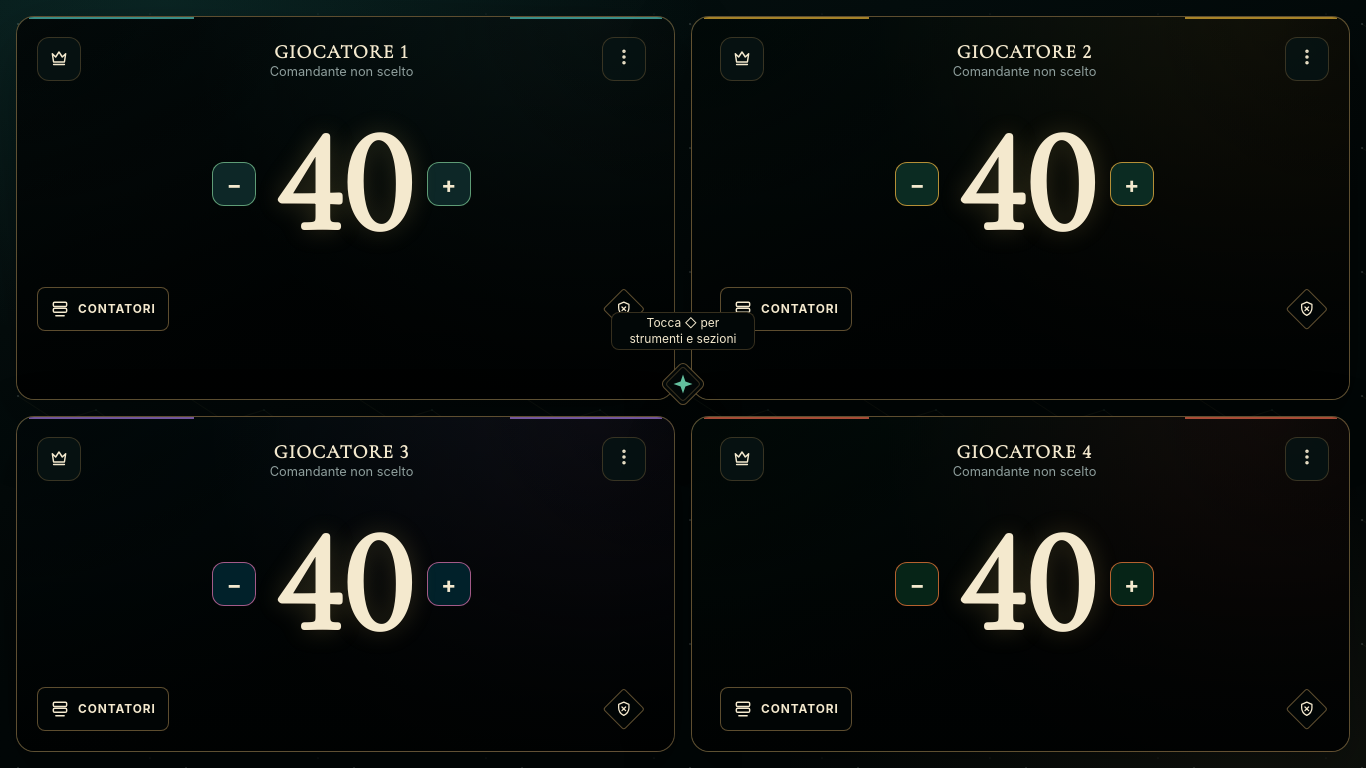
it: scoring › applies Commander damage to life as one step
This screenshot has width=1366, height=768.
Click the button named "danni commander di" at (624, 309), box [602,287,646,331]
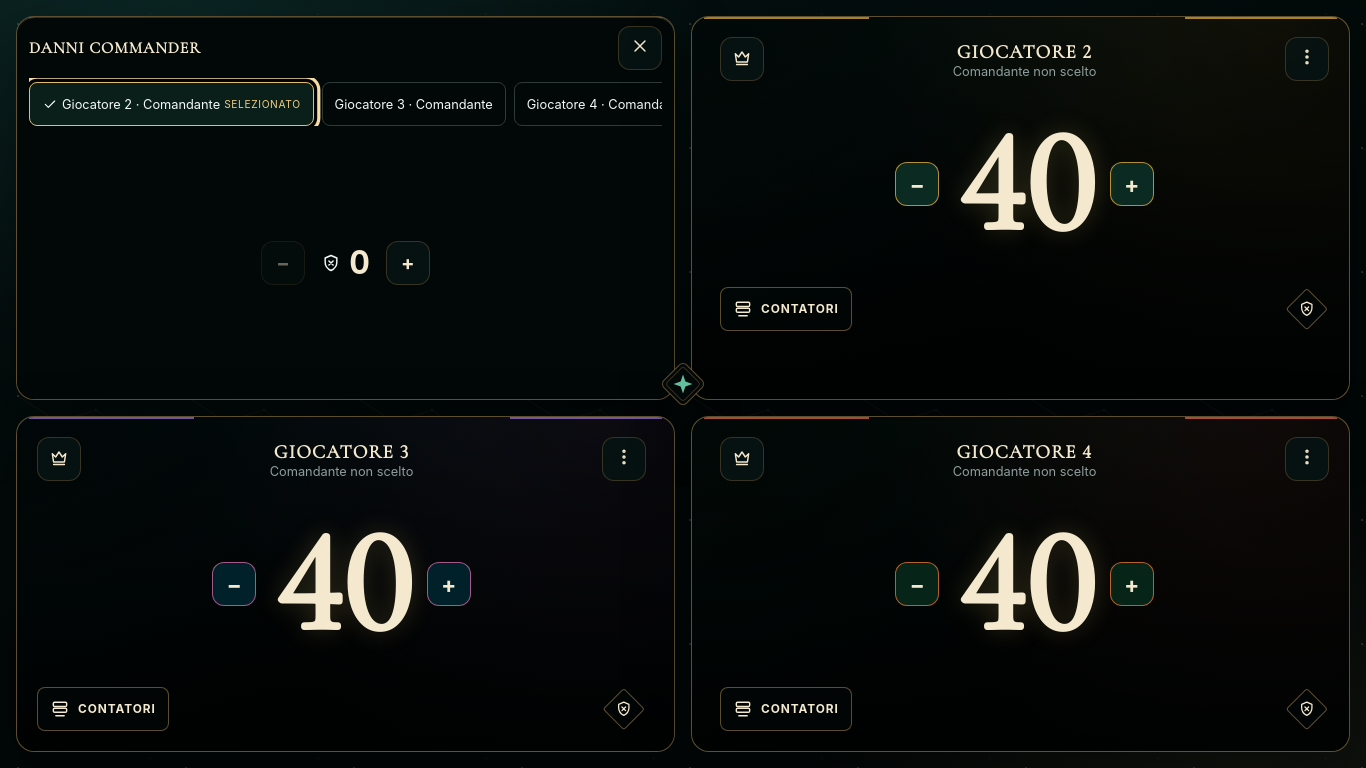
Click the button named "aggiungi 1 danno commander da giocatore 2 a giocatore 1" at (408, 262), box [386,240,430,284]
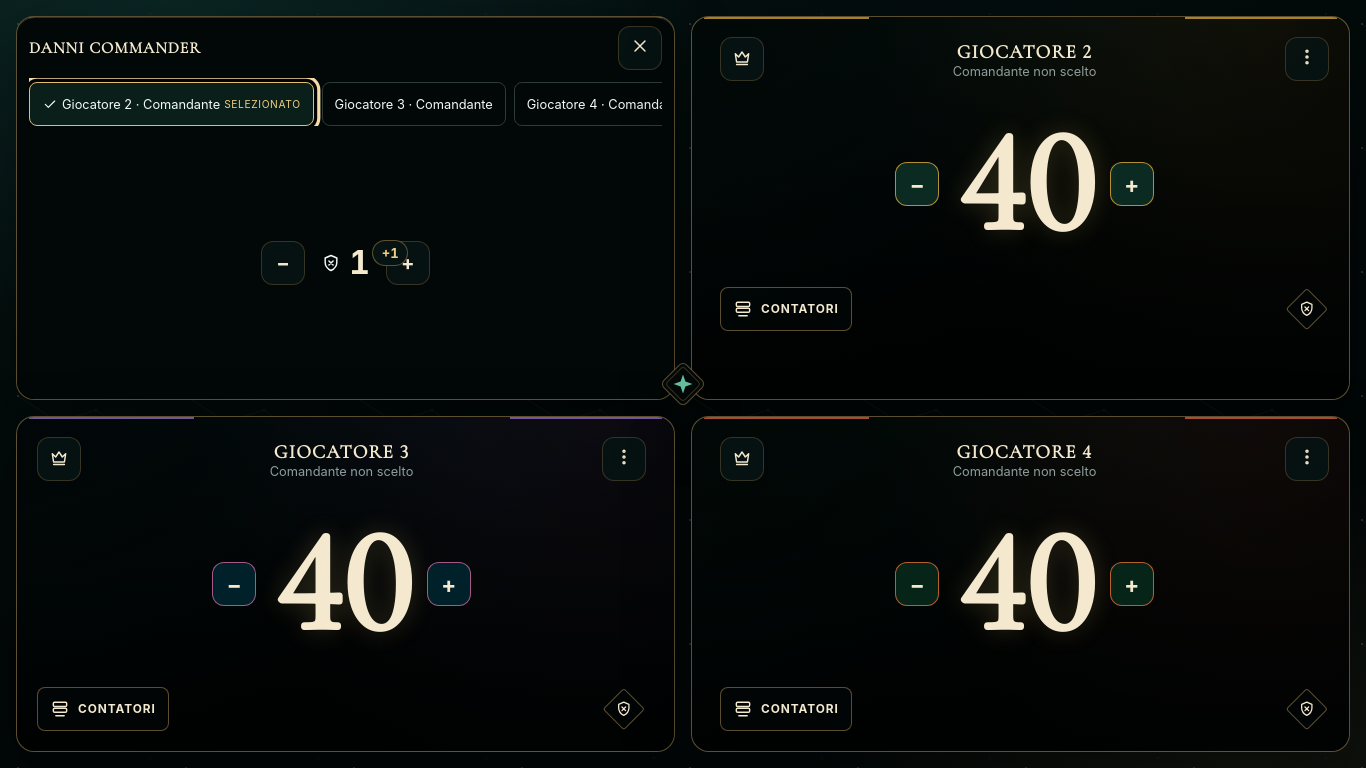
Click the button named "aggiungi 1 danno commander da giocatore 2 a giocatore 1" at (408, 262), box [386,240,430,284]
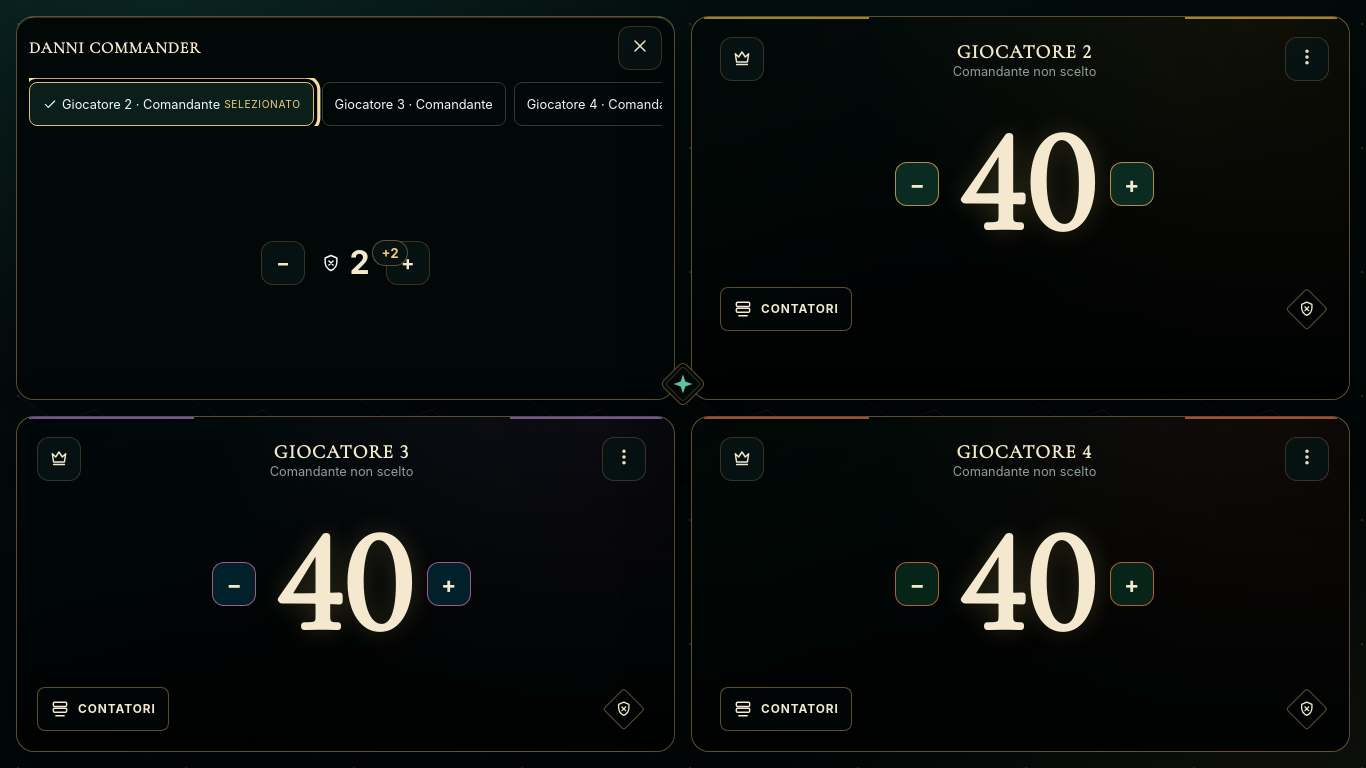
Expected: the text with test id "life-total" reads "38", [272,97,411,271]
Expected: the text with test id "commander-value" reads "2", [349,242,370,282]
Click the button named "togli 1 danno commander da giocatore 2 a giocatore 1" at (283, 262), box [261,240,305,284]
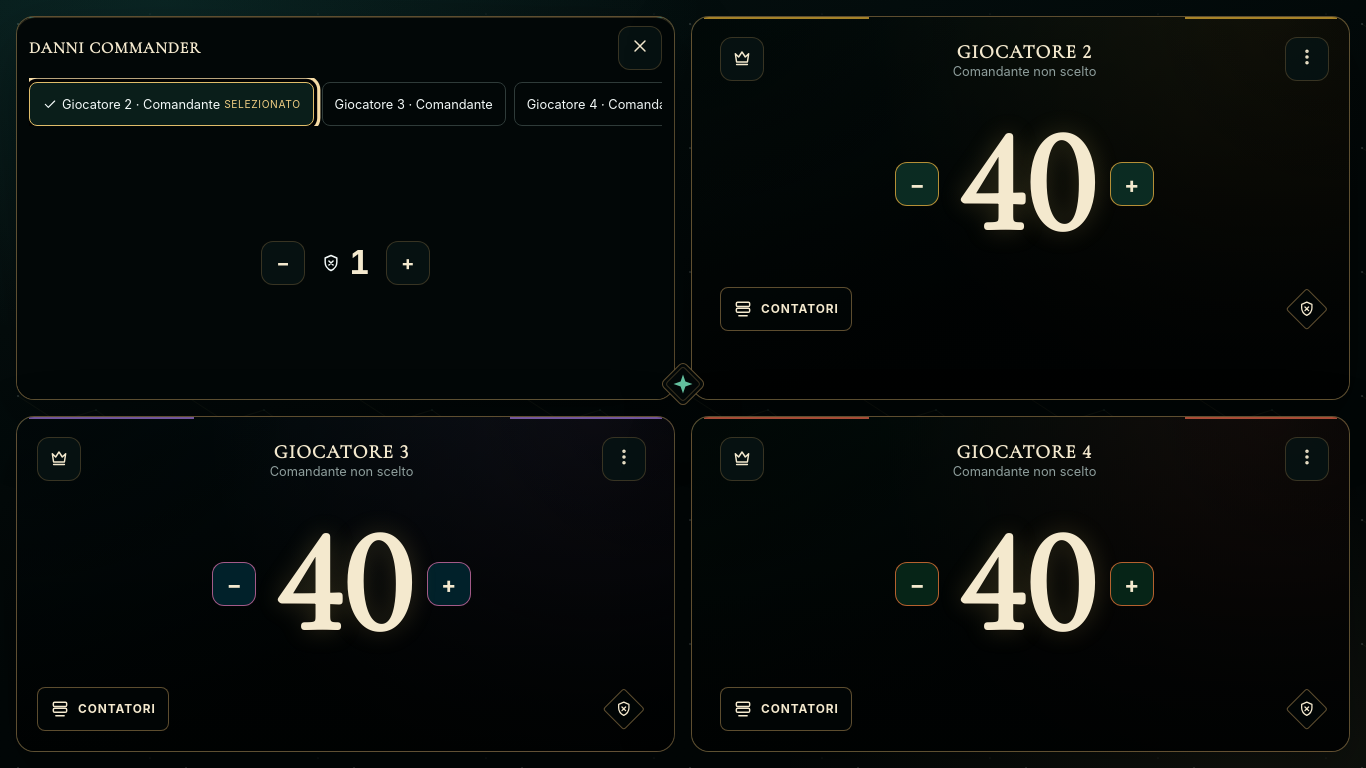
Expected: the text with test id "life-total" reads "39", [272,97,411,271]
